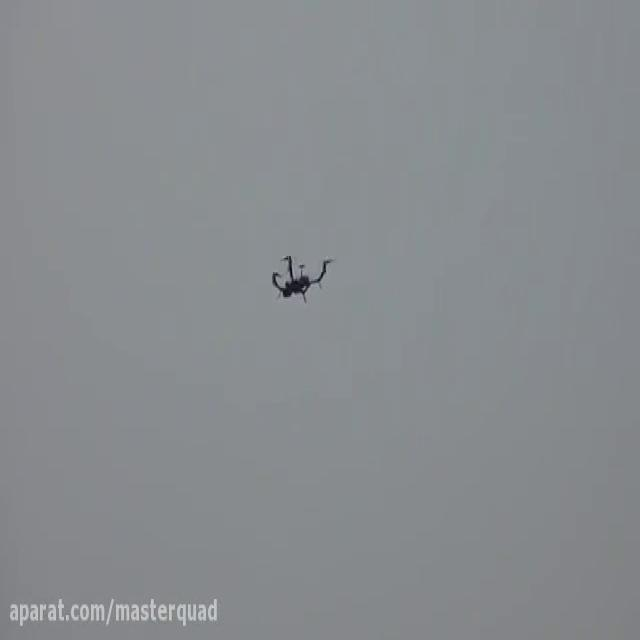drone: (264, 240, 340, 309)
